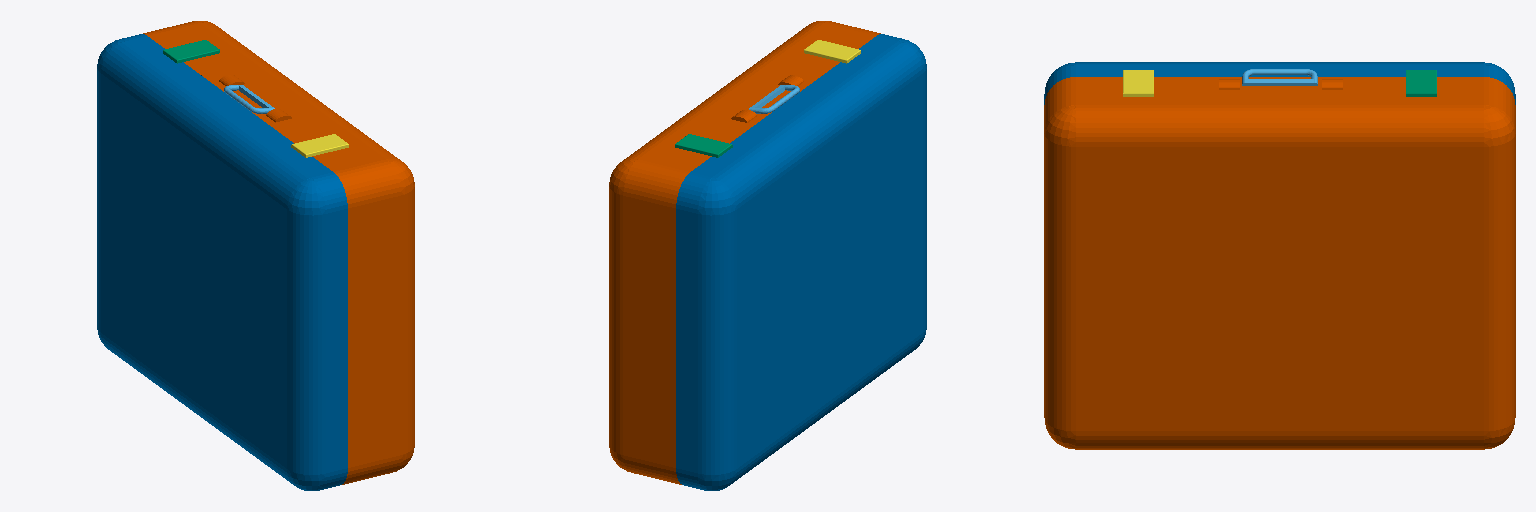
The robot description file, URDF, robot "partnet_96325740-43a4-4d91-8301-8cac91428698":
<?xml version="1.0" ?>
<robot name="partnet_96325740-43a4-4d91-8301-8cac91428698">
	<link name="base"/>
	<link name="link_0">
		<visual name="handle-1">
			<origin xyz="-0.24199100000000007 -0.6190739312791156 0.008863188576718584"/>
			<geometry>
				<mesh filename="textured_objs/original-12.obj"/>
			</geometry>
		</visual>
		<collision>
			<origin xyz="-0.24199100000000007 -0.6190739312791156 0.008863188576718584"/>
			<geometry>
				<mesh filename="textured_objs/original-12.obj"/>
			</geometry>
		</collision>
	</link>
	<joint name="joint_0" type="fixed">
		<origin xyz="0.24199100000000007 0.6190739312791156 -0.008863188576718584"/>
		<axis xyz="-1 0 0"/>
		<child link="link_0"/>
		<parent link="link_4"/>
		<limit lower="-0.0" upper="3.141592653589793"/>
	</joint>
	<link name="link_1">
		<visual name="lock-2">
			<origin xyz="-0.5638830000000001 -0.6140162935418205 0.10098945949062198"/>
			<geometry>
				<mesh filename="textured_objs/original-4.obj"/>
			</geometry>
		</visual>
		<collision>
			<origin xyz="-0.5638830000000001 -0.6140162935418205 0.10098945949062198"/>
			<geometry>
				<mesh filename="textured_objs/original-4.obj"/>
			</geometry>
		</collision>
	</link>
	<joint name="joint_1" type="fixed">
		<origin xyz="0.5638830000000001 0.6140162935418205 -0.10098945949062198"/>
		<axis xyz="-1 0 0"/>
		<child link="link_1"/>
		<parent link="link_4"/>
		<limit lower="-0.0" upper="3.141592653589793"/>
	</joint>
	<link name="link_2">
		<visual name="lock-3">
			<origin xyz="-0.5638830000000001 -0.6140162935418205 0.10098945949062198"/>
			<geometry>
				<mesh filename="textured_objs/original-8.obj"/>
			</geometry>
		</visual>
		<collision>
			<origin xyz="-0.5638830000000001 -0.6140162935418205 0.10098945949062198"/>
			<geometry>
				<mesh filename="textured_objs/original-8.obj"/>
			</geometry>
		</collision>
	</link>
	<joint name="joint_2" type="fixed">
		<origin xyz="0.5638830000000001 0.6140162935418205 -0.10098945949062198"/>
		<axis xyz="-1 0 0"/>
		<child link="link_2"/>
		<parent link="link_4"/>
		<limit lower="-0.0" upper="3.141592653589793"/>
	</joint>
	<link name="link_3">
		<visual name="lid-4">
			<origin xyz="-0.5638830000000001 0.6355493775357086 -0.053726220875294516"/>
			<geometry>
				<mesh filename="textured_objs/original-10.obj"/>
			</geometry>
		</visual>
		<visual name="lid-4">
			<origin xyz="-0.5638830000000001 0.6355493775357086 -0.053726220875294516"/>
			<geometry>
				<mesh filename="textured_objs/original-9.obj"/>
			</geometry>
		</visual>
		<visual name="lid-4">
			<origin xyz="-0.5638830000000001 0.6355493775357086 -0.053726220875294516"/>
			<geometry>
				<mesh filename="textured_objs/original-3.obj"/>
			</geometry>
		</visual>
		<collision>
			<origin xyz="-0.5638830000000001 0.6355493775357086 -0.053726220875294516"/>
			<geometry>
				<mesh filename="textured_objs/original-10.obj"/>
			</geometry>
		</collision>
		<collision>
			<origin xyz="-0.5638830000000001 0.6355493775357086 -0.053726220875294516"/>
			<geometry>
				<mesh filename="textured_objs/original-9.obj"/>
			</geometry>
		</collision>
		<collision>
			<origin xyz="-0.5638830000000001 0.6355493775357086 -0.053726220875294516"/>
			<geometry>
				<mesh filename="textured_objs/original-3.obj"/>
			</geometry>
		</collision>
	</link>
	<joint name="joint_3" type="revolute">
		<origin xyz="0.5638830000000001 -0.6355493775357086 0.053726220875294516"/>
		<axis xyz="1 0 0"/>
		<child link="link_3"/>
		<parent link="link_4"/>
		<limit lower="0.0" upper="3.141592653589793"/>
	</joint>
	<link name="link_4">
		<visual name="base_body-5">
			<origin xyz="0 0 0"/>
			<geometry>
				<mesh filename="textured_objs/original-2.obj"/>
			</geometry>
		</visual>
		<visual name="base_body-5">
			<origin xyz="0 0 0"/>
			<geometry>
				<mesh filename="textured_objs/original-13.obj"/>
			</geometry>
		</visual>
		<visual name="base_body-5">
			<origin xyz="0 0 0"/>
			<geometry>
				<mesh filename="textured_objs/original-5.obj"/>
			</geometry>
		</visual>
		<visual name="base_body-5">
			<origin xyz="0 0 0"/>
			<geometry>
				<mesh filename="textured_objs/original-6.obj"/>
			</geometry>
		</visual>
		<visual name="base_body-5">
			<origin xyz="0 0 0"/>
			<geometry>
				<mesh filename="textured_objs/original-11.obj"/>
			</geometry>
		</visual>
		<visual name="base_body-5">
			<origin xyz="0 0 0"/>
			<geometry>
				<mesh filename="textured_objs/original-7.obj"/>
			</geometry>
		</visual>
		<visual name="base_body-5">
			<origin xyz="0 0 0"/>
			<geometry>
				<mesh filename="textured_objs/original-1.obj"/>
			</geometry>
		</visual>
		<visual name="base_body-5">
			<origin xyz="0 0 0"/>
			<geometry>
				<mesh filename="textured_objs/original-14.obj"/>
			</geometry>
		</visual>
		<collision>
			<origin xyz="0 0 0"/>
			<geometry>
				<mesh filename="textured_objs/original-2.obj"/>
			</geometry>
		</collision>
		<collision>
			<origin xyz="0 0 0"/>
			<geometry>
				<mesh filename="textured_objs/original-13.obj"/>
			</geometry>
		</collision>
		<collision>
			<origin xyz="0 0 0"/>
			<geometry>
				<mesh filename="textured_objs/original-5.obj"/>
			</geometry>
		</collision>
		<collision>
			<origin xyz="0 0 0"/>
			<geometry>
				<mesh filename="textured_objs/original-6.obj"/>
			</geometry>
		</collision>
		<collision>
			<origin xyz="0 0 0"/>
			<geometry>
				<mesh filename="textured_objs/original-11.obj"/>
			</geometry>
		</collision>
		<collision>
			<origin xyz="0 0 0"/>
			<geometry>
				<mesh filename="textured_objs/original-7.obj"/>
			</geometry>
		</collision>
		<collision>
			<origin xyz="0 0 0"/>
			<geometry>
				<mesh filename="textured_objs/original-1.obj"/>
			</geometry>
		</collision>
		<collision>
			<origin xyz="0 0 0"/>
			<geometry>
				<mesh filename="textured_objs/original-14.obj"/>
			</geometry>
		</collision>
	</link>
	<joint name="joint_4" type="fixed">
		<origin rpy="1.570796326794897 0 -1.570796326794897" xyz="0 0 0"/>
		<child link="link_4"/>
		<parent link="base"/>
	</joint>
</robot>

--- Render facts (derived) ---
Views: 3 orthographic renders of the robot side by side, from view 1: azimuth 30°, elevation 25°; view 2: azimuth 150°, elevation 25°; view 3: azimuth 270°, elevation 25°.
Robot: partnet_96325740-43a4-4d91-8301-8cac91428698 — 6 links, 5 joints (1 revolute, 4 fixed); root link base; default pose: every joint at zero.
Links seen in each view (by area): view 1: link_3, link_4, link_2, link_1, link_0; view 2: link_3, link_4, link_1, link_2, link_0; view 3: link_4, link_3, link_0, link_1, link_2.
Link boxes in pixels (box(x1,y1,x2,y2)): link_3: box(97, 34, 347, 490); link_4: box(143, 21, 414, 484); link_2: box(291, 134, 348, 157); link_1: box(163, 40, 219, 63); link_0: box(224, 85, 274, 113); link_3: box(676, 34, 926, 490); link_4: box(609, 21, 880, 484); link_1: box(675, 134, 732, 157); link_2: box(804, 40, 860, 63); link_0: box(749, 85, 799, 113); link_4: box(1044, 77, 1515, 449); link_3: box(1044, 62, 1515, 104); link_0: box(1242, 69, 1317, 85); link_1: box(1406, 70, 1436, 96); link_2: box(1123, 70, 1153, 96).
Size in the robot's own frame: 0.5243 by 1.57 by 1.31 metres.
14 mesh visuals loaded from 14 distinct referenced files (14 OBJ).
